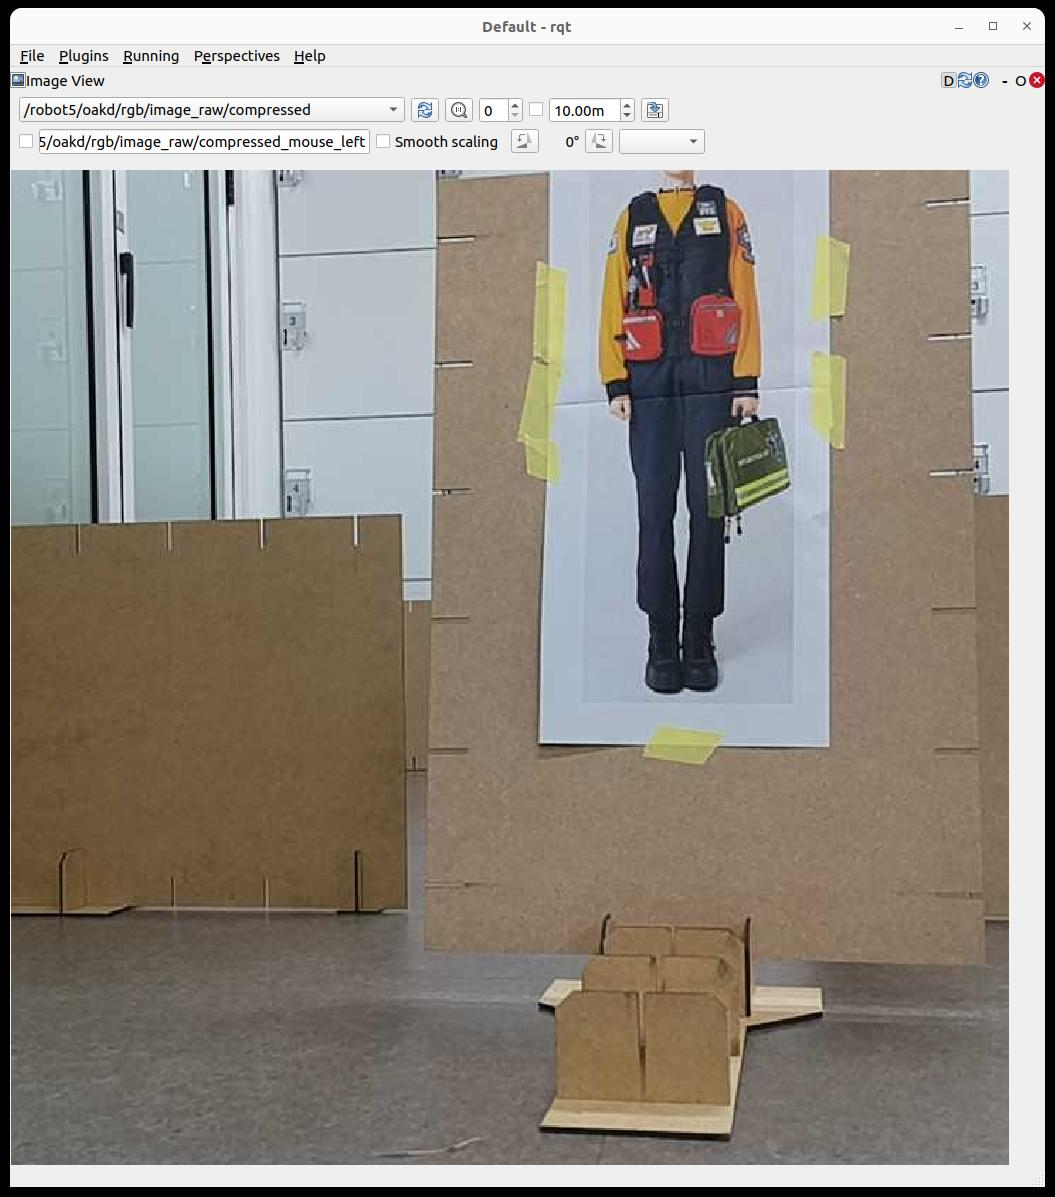Responder: (600, 171, 789, 694)
